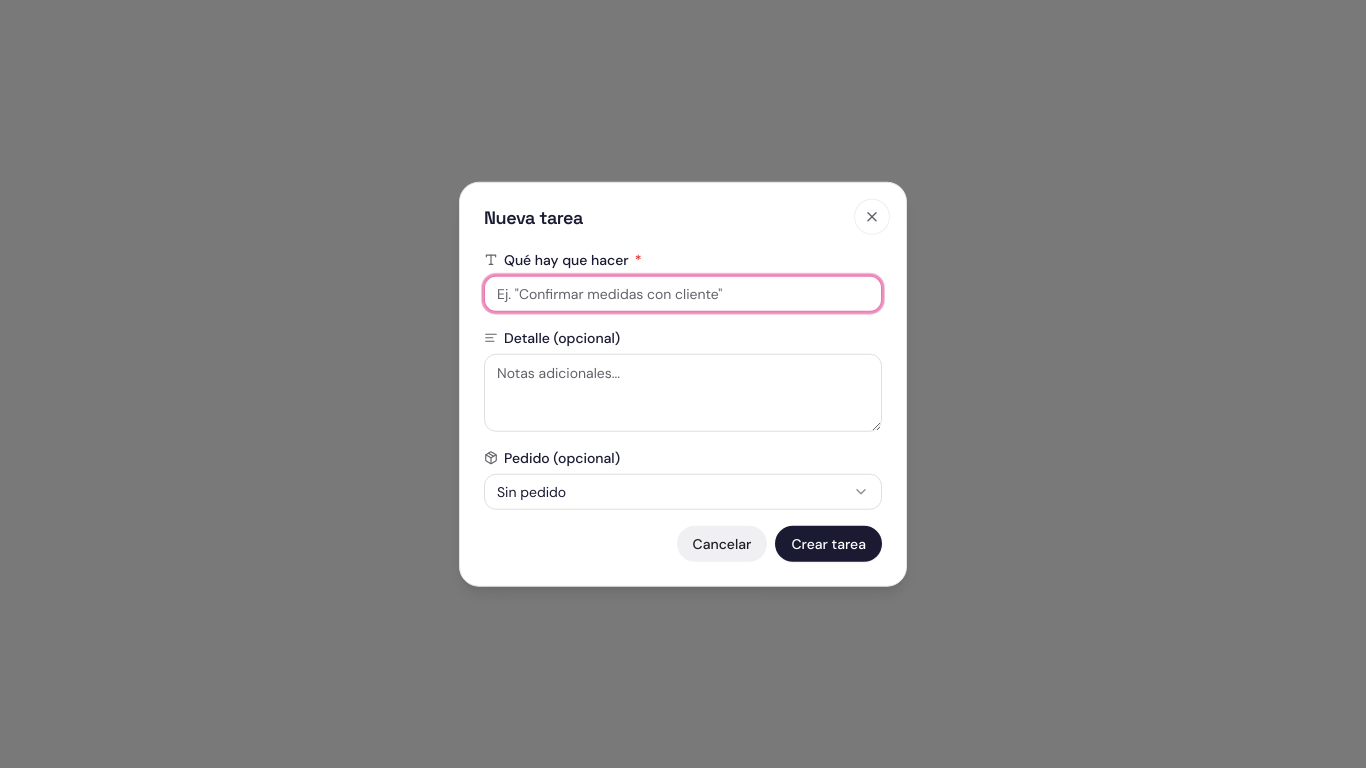
Test: CalendarTaskDialog › no deja crear una tarea sin título
The image size is (1366, 768).
What coordinates should you click on to do the following:
click the button "Crear tarea"
I would click on:
 (829, 543)
Its box is [775,525,882,561].
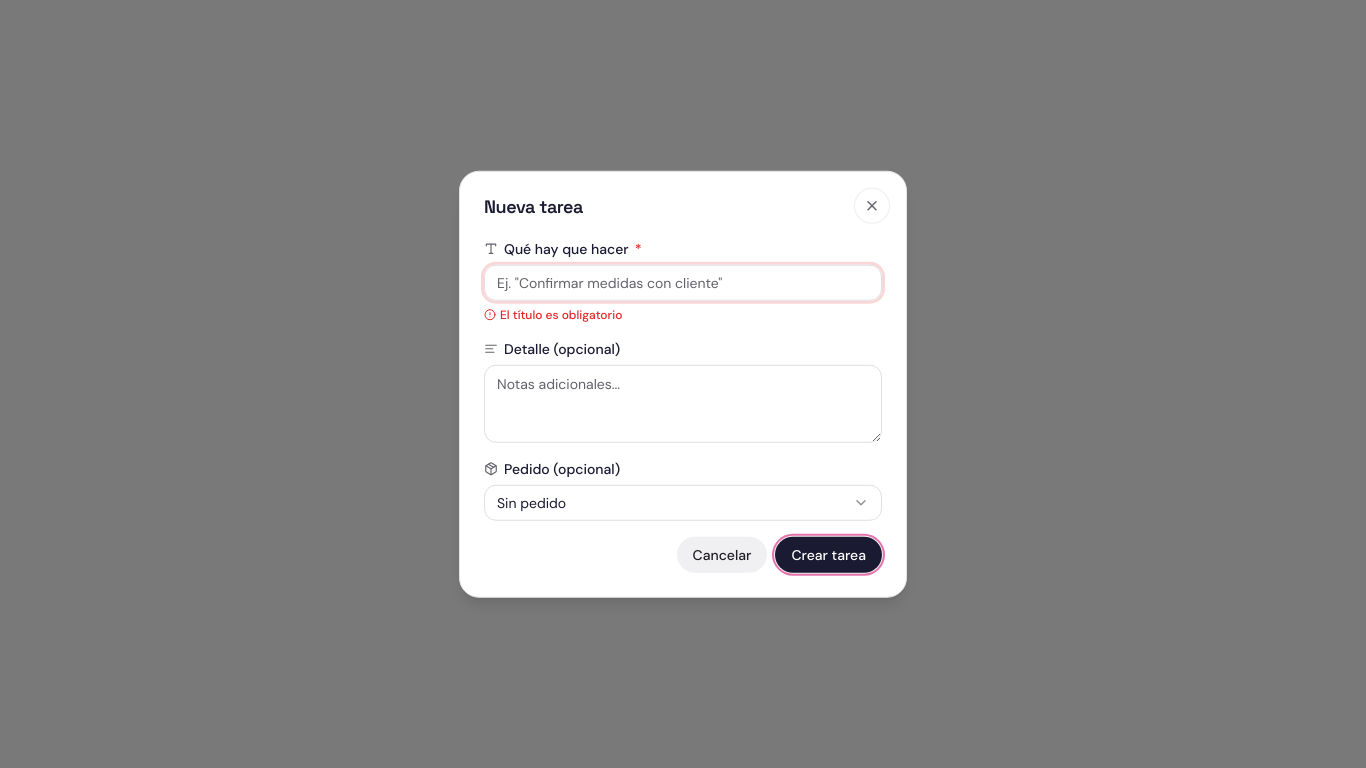
Expected: the text "El título es obligatorio" is shown, [484,306,622,322]
